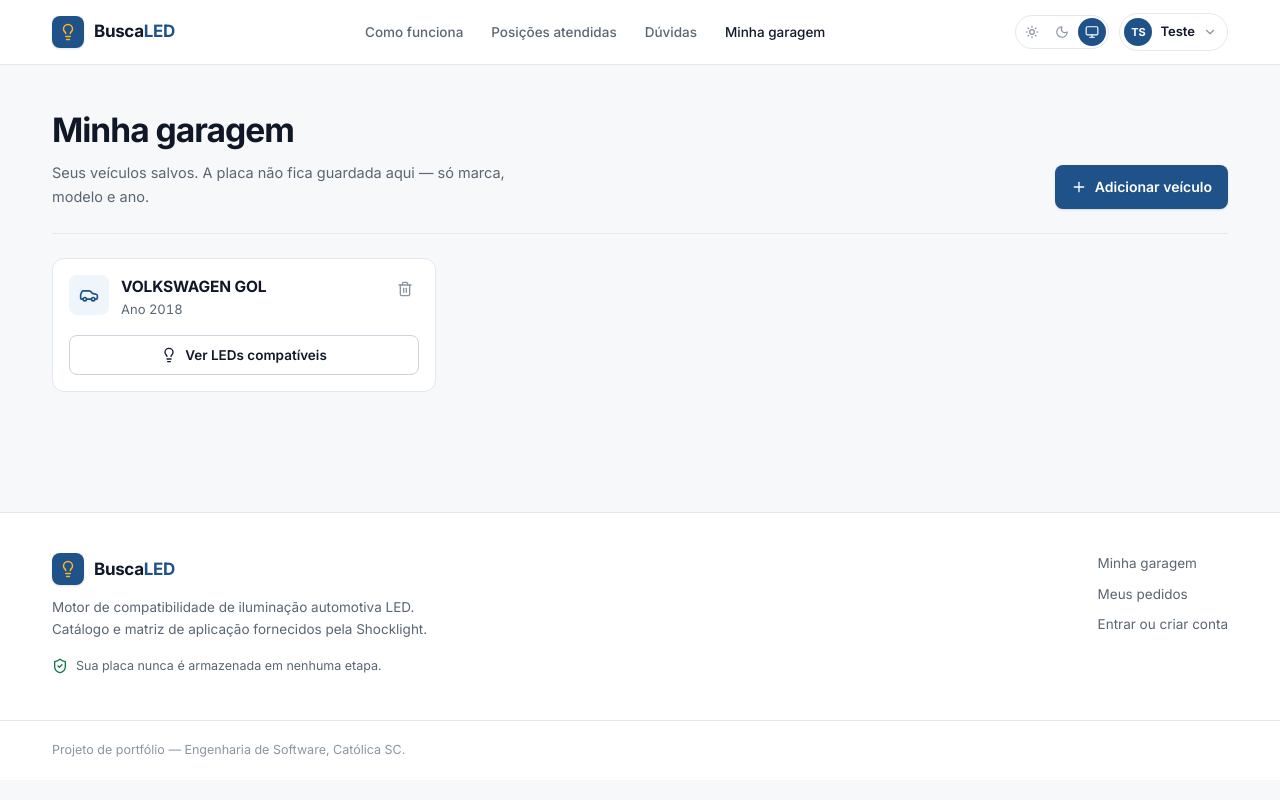
Garagem › abre o diálogo de adicionar com as duas formas de identificar
Expected: the heading "VOLKSWAGEN GOL" is shown, [121,276,266,296]
Click the button "Adicionar veículo". click: (1141, 186)
box: [1055,164,1228,208]
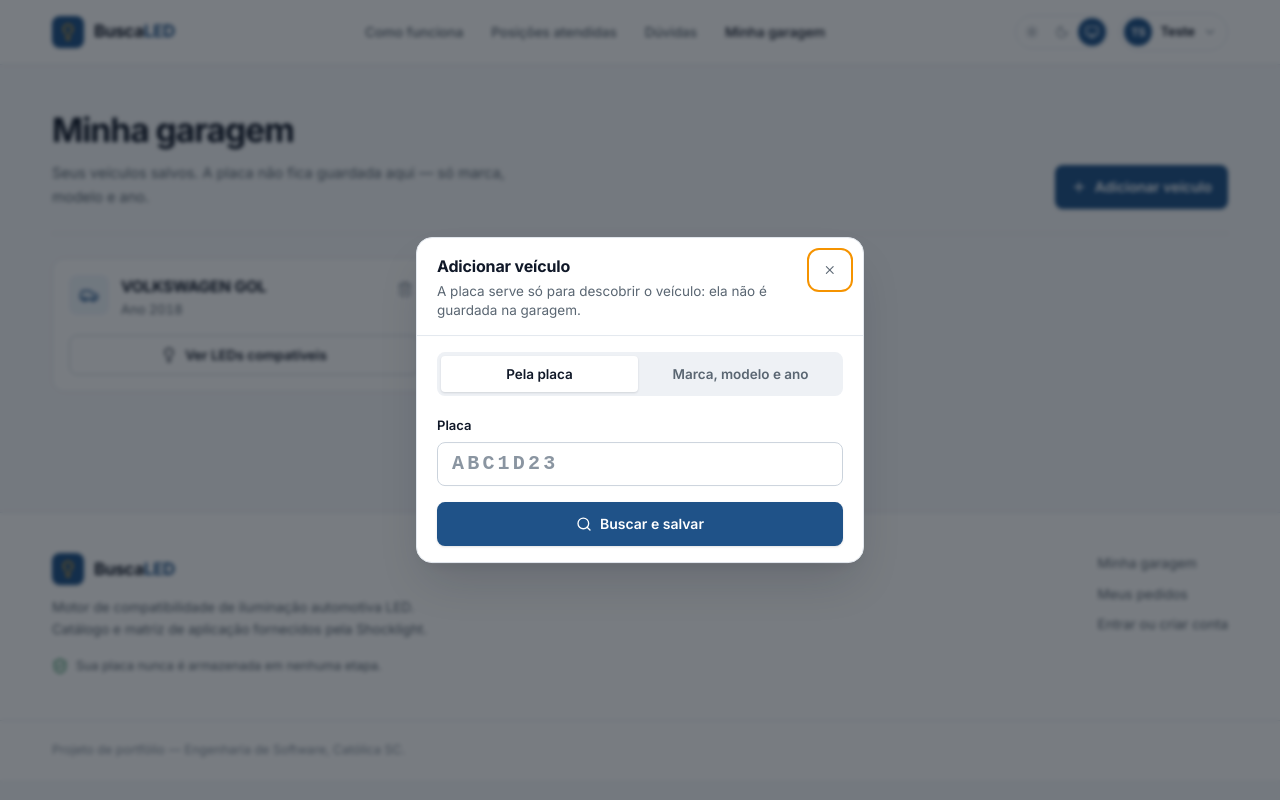
Now the dialog is shown, box [416,237,864,563]
Now the tab "Pela placa" is shown, box [441,356,638,392]
Now the tab "Marca, modelo e ano" is shown, box [642,356,839,392]
